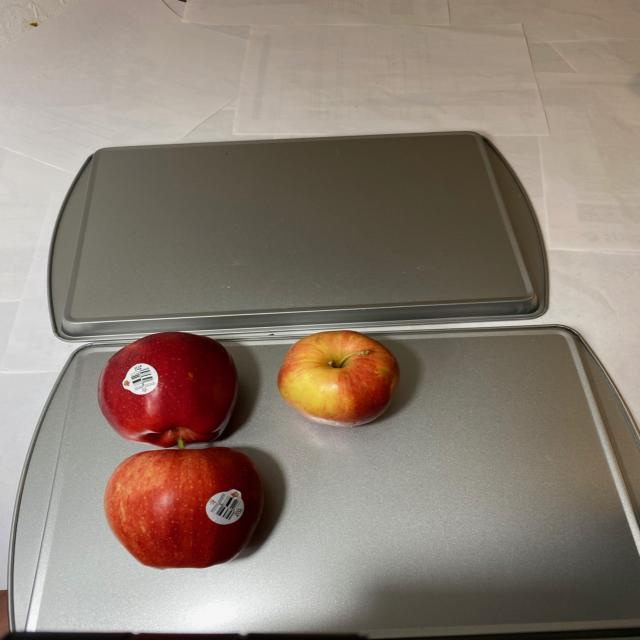Apple: (96, 330, 404, 570)
